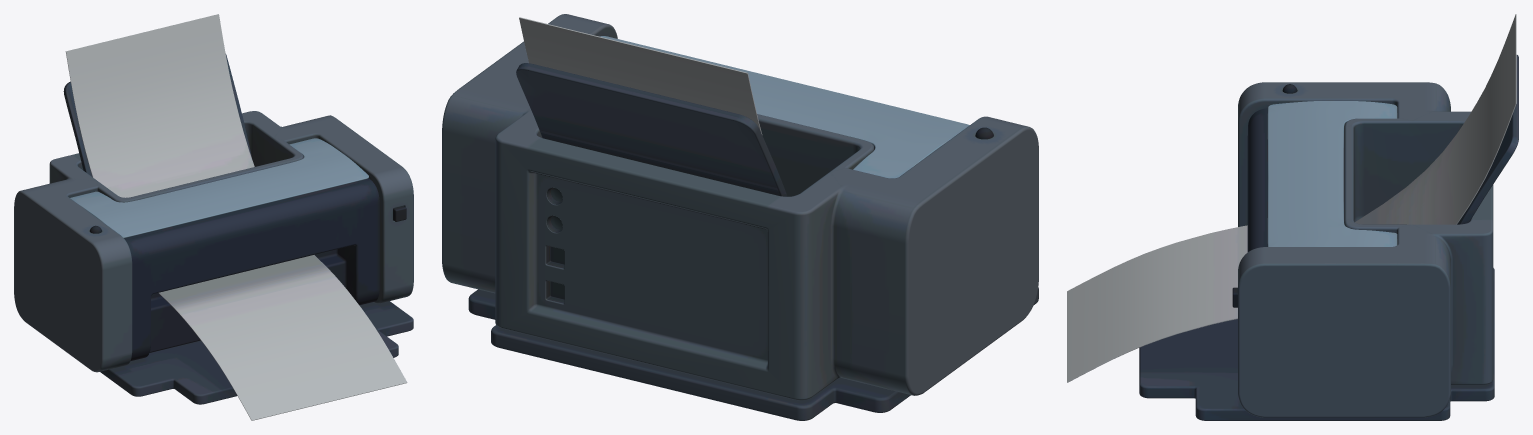
File: printer.fbx
The picture shows the model from 3 angles, left to right: view 1: azimuth 30°, elevation 25°; view 2: azimuth 150°, elevation 25°; view 3: azimuth 270°, elevation 25°; orthographic projection. The views are drawn at different scales.
Parts seen in each view (by area): view 1: node_id83; view 2: node_id83; view 3: node_id83.
Part boxes in pixels (box(x1,y1,x2,y2)): node_id83: box(14, 14, 413, 420); node_id83: box(442, 14, 1038, 420); node_id83: box(1067, 14, 1518, 420).
Bounding box in the file's own units: 0.512 × 0.3662 × 0.5346.
Materials: 1 (1 with a texture image).
